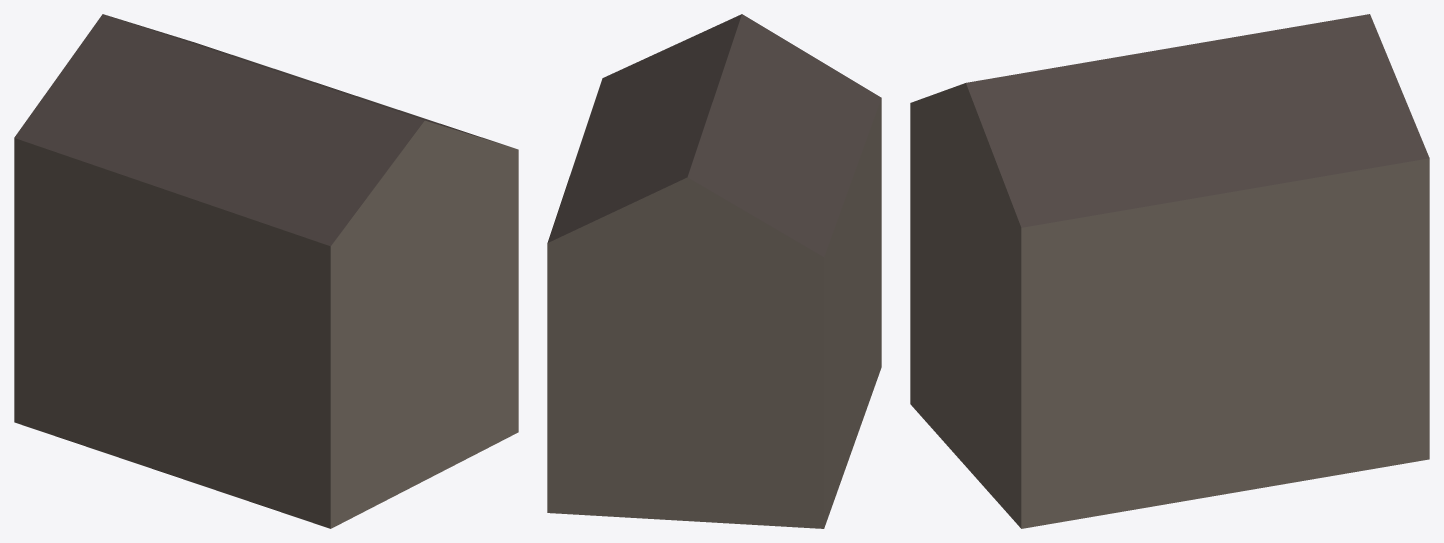
The picture shows the model from 3 angles, left to right: view 1: azimuth 30°, elevation 25°; view 2: azimuth 150°, elevation 25°; view 3: azimuth 270°, elevation 25°; orthographic projection. The views are drawn at different scales.
Visible parts, largest first — view 1: HP-w783664823; view 2: HP-w783664823; view 3: HP-w783664823.
Part boxes in pixels (x1,y1,x2,y2): HP-w783664823: (14,14,518,528); HP-w783664823: (547,14,881,528); HP-w783664823: (910,14,1429,528).
Bounding box in the file's own units: 8.18 × 7.65 × 9.38.
